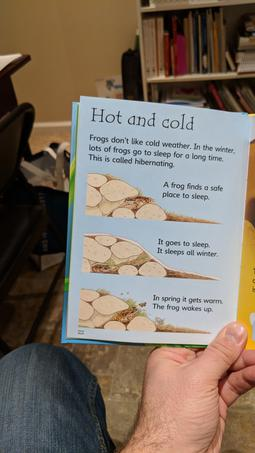text block: (83, 131, 243, 172), (84, 100, 202, 135), (149, 169, 229, 203), (152, 230, 224, 262), (144, 290, 228, 315)
